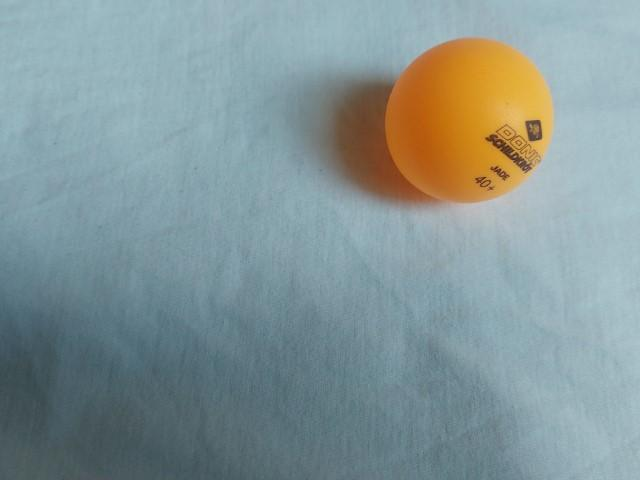oball: (377, 30, 561, 211)
